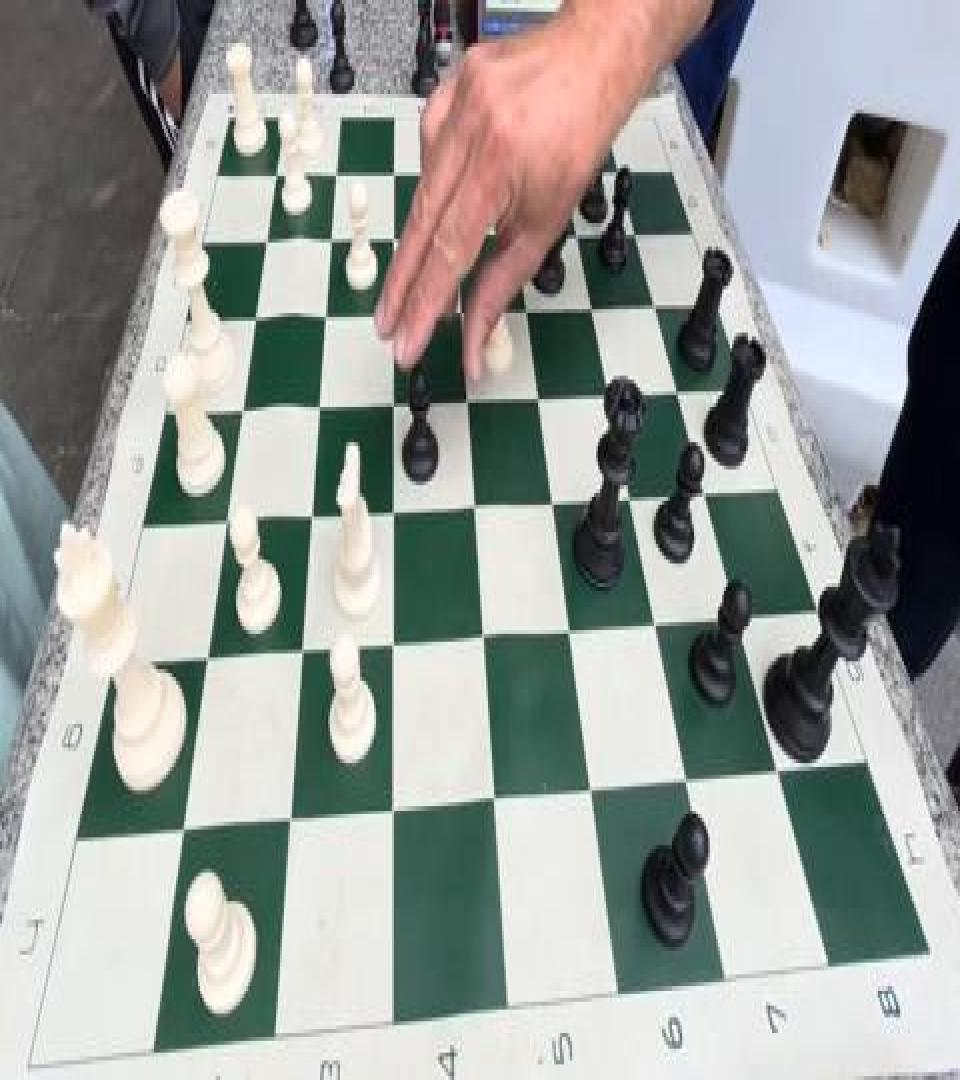xcorner: (606, 148, 628, 192), (551, 148, 573, 192), (382, 788, 404, 832), (496, 151, 518, 194), (439, 151, 461, 194), (382, 153, 404, 196), (324, 153, 346, 196), (265, 155, 287, 198), (444, 215, 466, 258), (382, 217, 404, 260), (319, 219, 341, 262), (256, 221, 278, 264), (642, 283, 664, 326), (579, 286, 601, 329), (514, 287, 536, 330), (449, 290, 471, 333), (382, 294, 404, 337), (314, 295, 336, 338), (245, 298, 267, 341), (665, 370, 687, 413), (596, 372, 618, 415), (526, 375, 548, 418), (455, 379, 477, 422), (308, 385, 330, 428), (232, 389, 254, 432), (540, 481, 562, 524), (462, 485, 484, 528), (382, 491, 404, 534), (300, 495, 322, 538), (217, 501, 239, 544), (725, 595, 747, 638), (642, 602, 664, 645), (557, 609, 579, 652), (471, 617, 493, 660), (382, 622, 404, 665), (291, 630, 313, 673), (198, 638, 220, 681), (674, 759, 696, 802), (579, 767, 601, 810), (482, 777, 504, 820), (279, 799, 301, 842), (174, 808, 196, 851), (622, 212, 644, 254), (564, 212, 586, 254), (504, 214, 526, 256), (382, 384, 404, 426), (692, 472, 714, 514), (617, 476, 639, 518), (766, 750, 788, 792)
